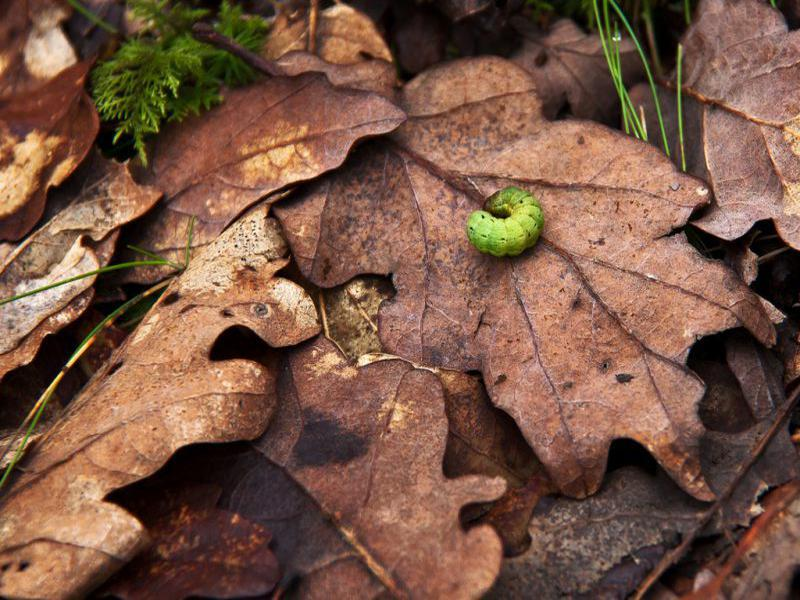leaf: (282, 48, 781, 513), (2, 194, 321, 596), (117, 69, 407, 284)
